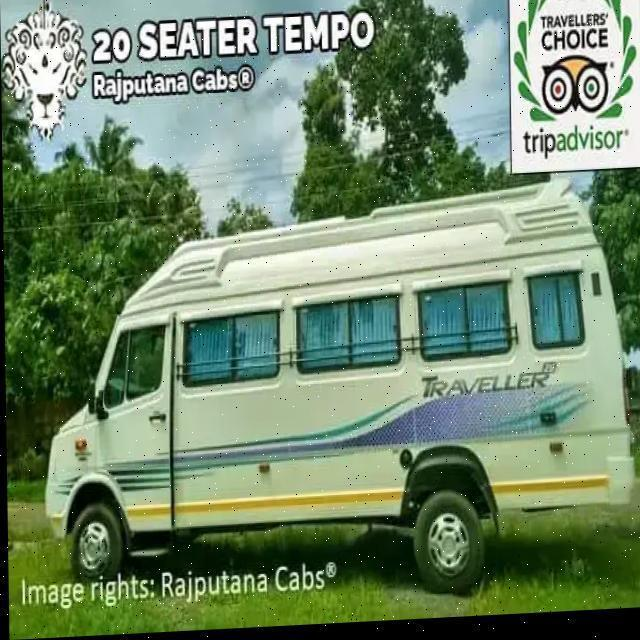Ambulance: (36, 173, 639, 618), (7, 466, 640, 634)
